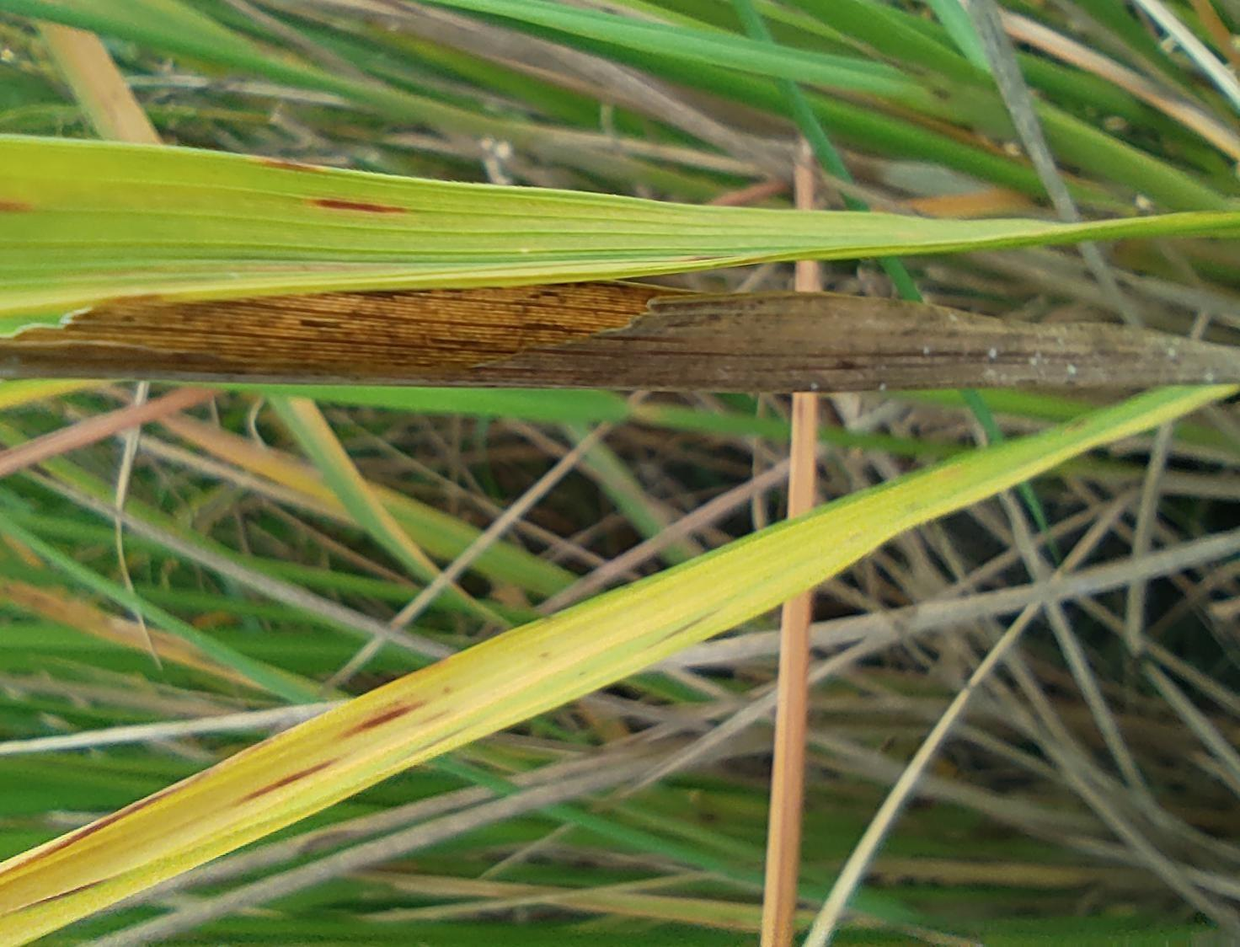LEAF: (0, 386, 1236, 946)
NBS: (234, 757, 340, 808), (341, 697, 427, 738), (646, 610, 721, 647)
